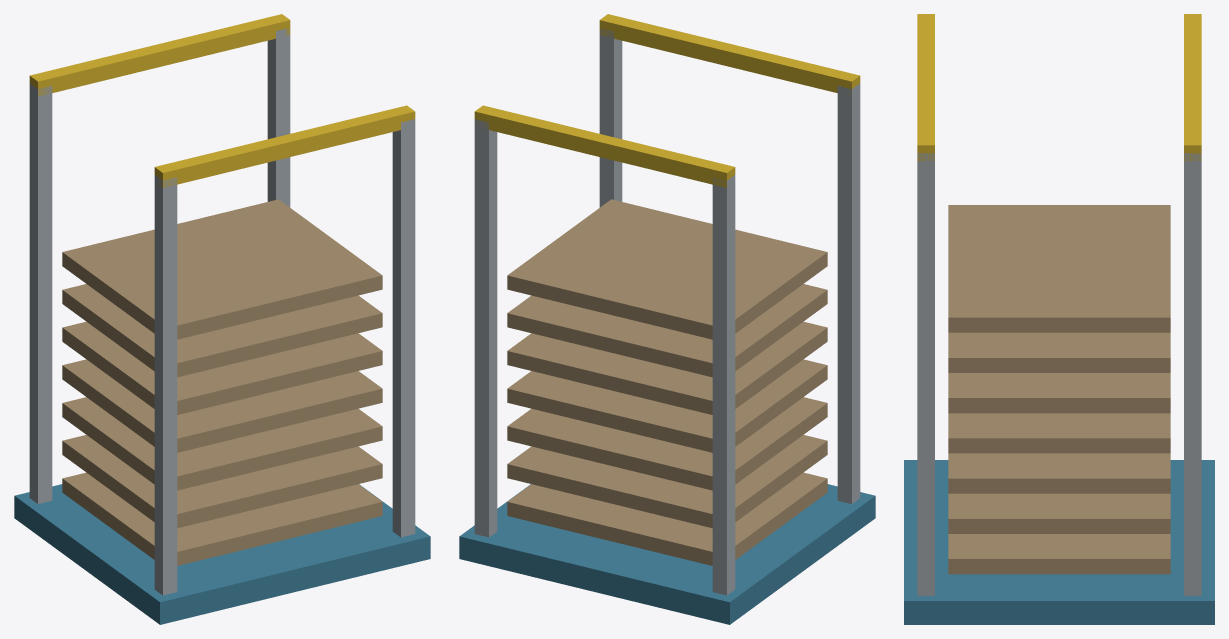
The picture shows the model from 3 angles, left to right: view 1: azimuth 30°, elevation 25°; view 2: azimuth 150°, elevation 25°; view 3: azimuth 270°, elevation 25°; orthographic projection. The views are drawn at different scales.
Visible parts, largest first — view 1: stack6, base, stack5, stack3, stack4, stack2, stack0, stack1, post0, post1, post3, top1 (+2 smaller); view 2: stack6, base, stack5, stack3, stack4, stack2, stack0, stack1, post1, post0, post2, top0 (+2 smaller); view 3: stack6, base, stack0, stack1, stack2, stack3, stack4, stack5, post3, post2, top1, top0.
Part boxes in pixels (left/top/right/bottom): stack6: left=62, top=199, right=382, bottom=339; base: left=14, top=484, right=430, bottom=624; stack5: left=62, top=284, right=382, bottom=377; stack3: left=62, top=359, right=382, bottom=452; stack4: left=62, top=321, right=382, bottom=414; stack2: left=62, top=397, right=382, bottom=490; stack0: left=62, top=472, right=382, bottom=565; stack1: left=62, top=435, right=382, bottom=528; post0: left=29, top=83, right=52, bottom=503; post1: left=154, top=175, right=177, bottom=595; post3: left=392, top=119, right=415, bottom=537; top1: left=154, top=105, right=415, bottom=187; stack6: left=507, top=199, right=827, bottom=339; base: left=459, top=484, right=875, bottom=624; stack5: left=507, top=284, right=827, bottom=377; stack3: left=507, top=359, right=827, bottom=452; stack4: left=507, top=321, right=827, bottom=414; stack2: left=507, top=397, right=827, bottom=490; stack0: left=507, top=472, right=827, bottom=565; stack1: left=507, top=435, right=827, bottom=528; post1: left=837, top=83, right=860, bottom=503; post0: left=712, top=175, right=735, bottom=595; post2: left=474, top=119, right=497, bottom=537; top0: left=474, top=105, right=735, bottom=187; stack6: left=948, top=205, right=1170, bottom=332; base: left=904, top=460, right=1214, bottom=624; stack0: left=948, top=534, right=1170, bottom=574; stack1: left=948, top=493, right=1170, bottom=533; stack2: left=948, top=453, right=1170, bottom=493; stack3: left=948, top=413, right=1170, bottom=453; stack4: left=948, top=373, right=1170, bottom=413; stack5: left=948, top=332, right=1170, bottom=372; post3: left=917, top=153, right=934, bottom=595; post2: left=1184, top=153, right=1201, bottom=595; top1: left=917, top=14, right=934, bottom=161; top0: left=1184, top=14, right=1201, bottom=161.
Bounding box in the file's own units: 1.5 × 2.36 × 1.4.
